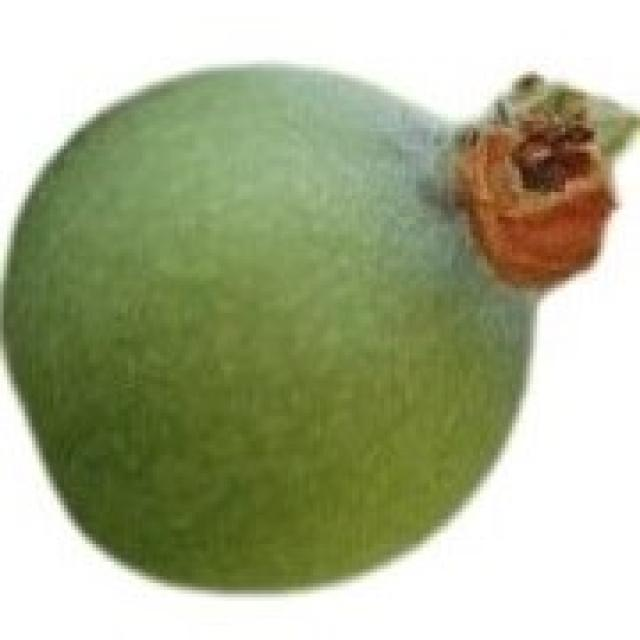20-_ripeness: (9, 66, 614, 592)
